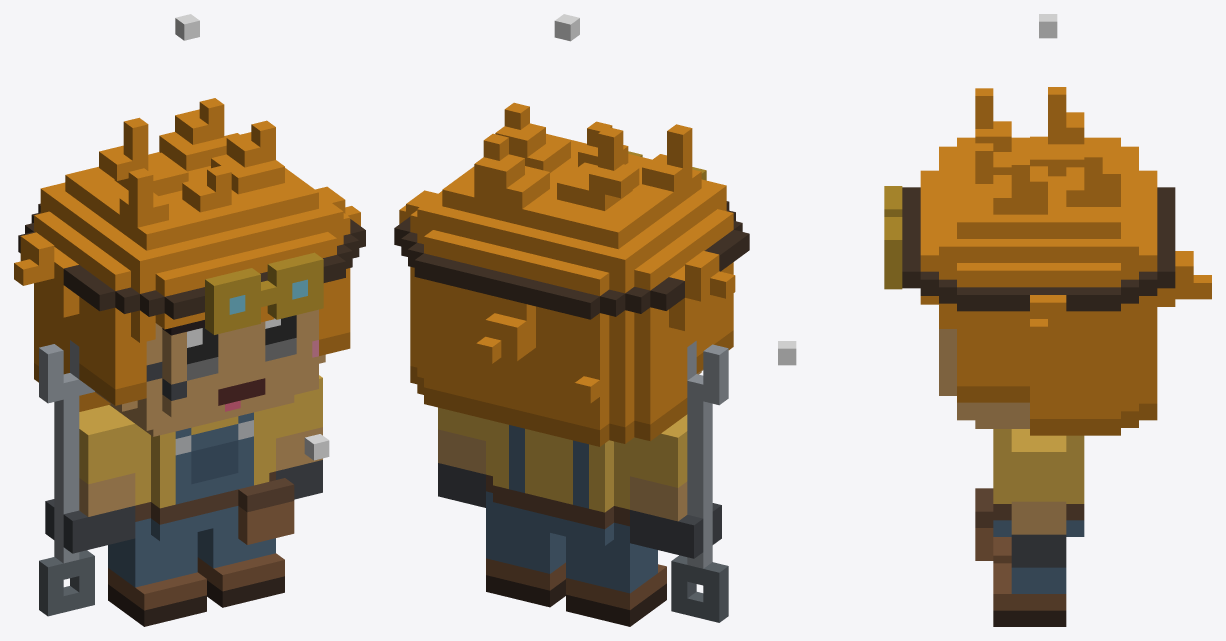
Rendered from Char_Bolt.fbx.
3 views of the same model, side by side, from view 1: azimuth 30°, elevation 25°; view 2: azimuth 150°, elevation 25°; view 3: azimuth 270°, elevation 25° (orthographic). The views are drawn at different scales.
Parts seen in each view (by area): view 1: Head, ArmR, Torso, LegR, LegL, ArmL, FrontMarker, TopMarker; view 2: Head, ArmR, Torso, LegR, LegL, ArmL, TopMarker; view 3: Head, ArmL, Torso, LegL.
Boxes of the visible parts, x1,y1,x2,y2 form: Head: (14, 98, 365, 436); ArmR: (39, 340, 135, 616); Torso: (135, 407, 294, 544); LegR: (108, 532, 206, 626); LegL: (197, 522, 284, 607); ArmL: (276, 375, 322, 499); FrontMarker: (304, 434, 329, 460); TopMarker: (175, 14, 199, 40); Head: (394, 102, 749, 446); ArmR: (630, 341, 728, 622); Torso: (486, 419, 629, 545); LegR: (566, 536, 666, 626); LegL: (486, 508, 565, 607); ArmL: (438, 407, 485, 507); TopMarker: (554, 14, 579, 41); Head: (884, 87, 1211, 435); ArmL: (1011, 429, 1066, 567); Torso: (975, 429, 1084, 560); LegL: (993, 563, 1066, 626).
Bounding box in the file's own units: 3.94 × 6.53 × 4.47.
